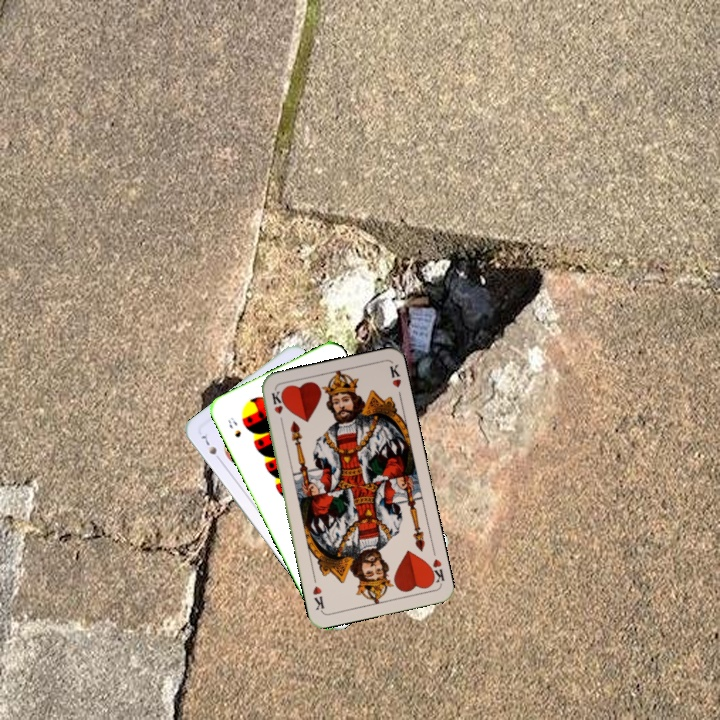HK: (267, 387, 286, 427), (424, 555, 447, 587)
S7: (198, 431, 225, 465)
S8: (224, 413, 244, 440)
